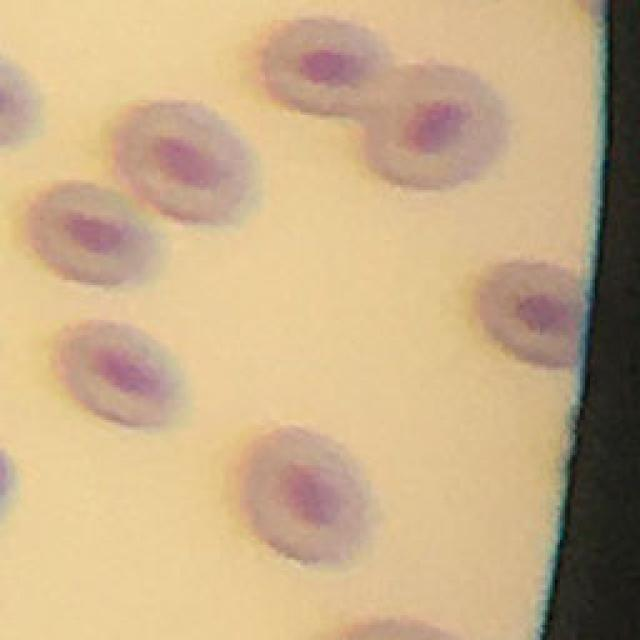RBC: (235, 424, 386, 570), (360, 61, 510, 192), (114, 97, 259, 227), (49, 321, 191, 435), (22, 184, 166, 288), (259, 19, 398, 119), (471, 260, 581, 371)
